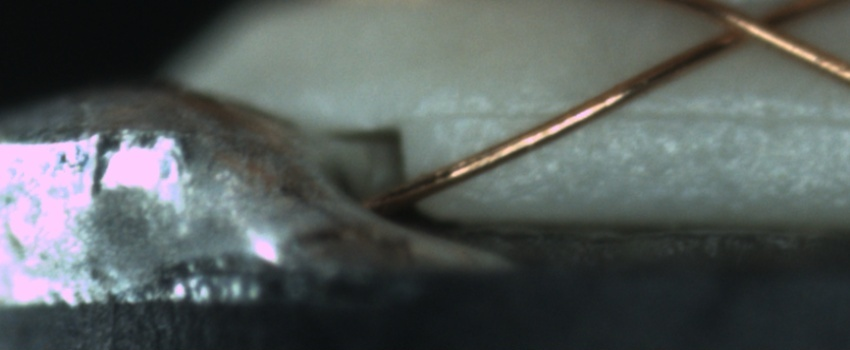CL: (702, 0, 809, 59)
DL: (438, 84, 850, 146)
